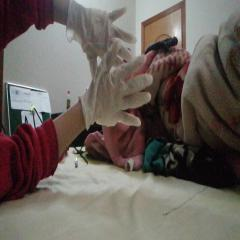gloved: (84, 37, 154, 130), (66, 0, 137, 77)
